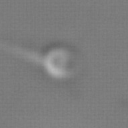normal: (1, 38, 45, 67)
